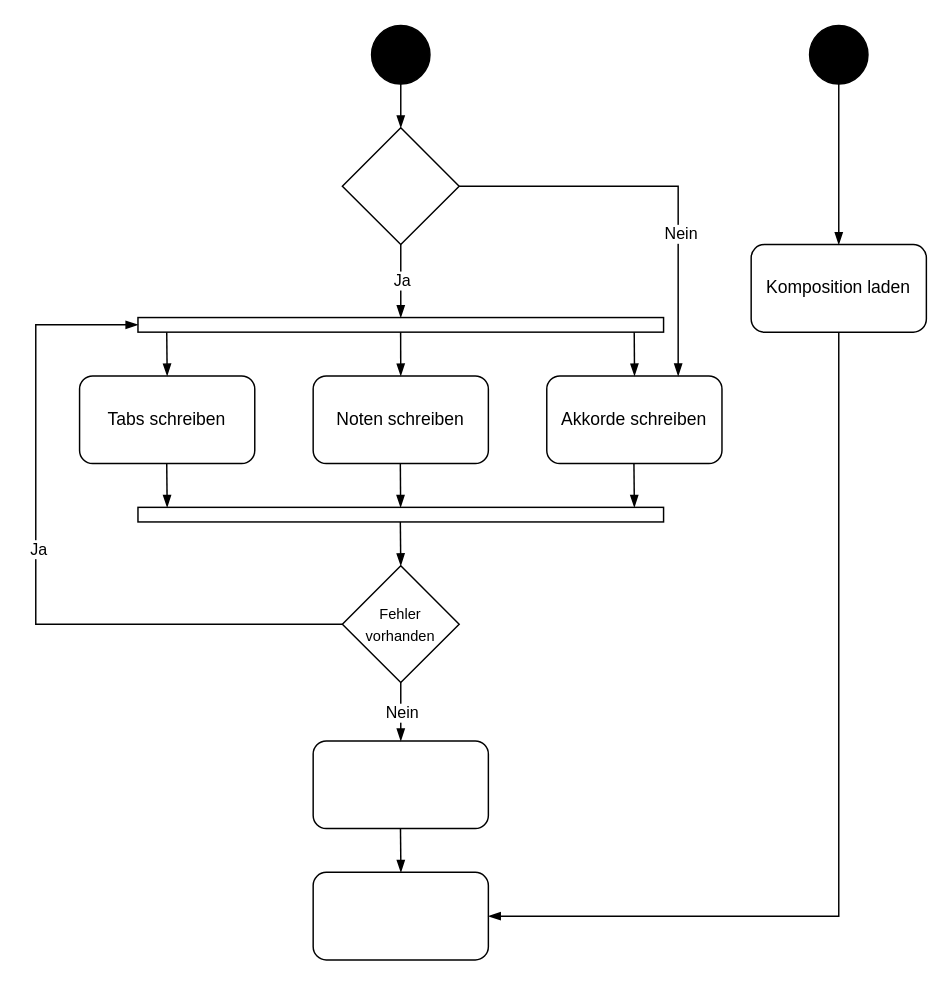
This 952x986 diagram has some shape labels left out. The shapes that lost their labels are listed below. From the top down, each one's centre as x and y in pixels, then its label:
(x=400, y=185): Premium vorhanden
(x=400, y=784): Komposition speichern
(x=400, y=915): Komposition abspielen
